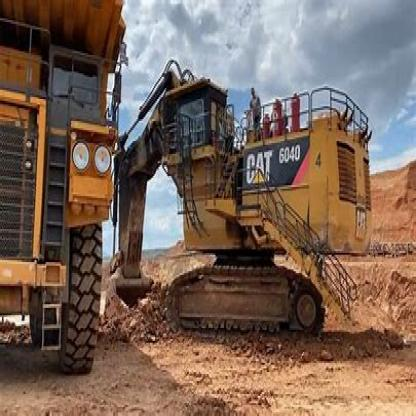dump_truck: (1, 0, 141, 396)
excavator: (112, 59, 385, 376)
